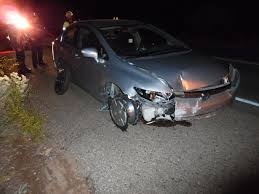Smashed: (100, 57, 241, 132)
